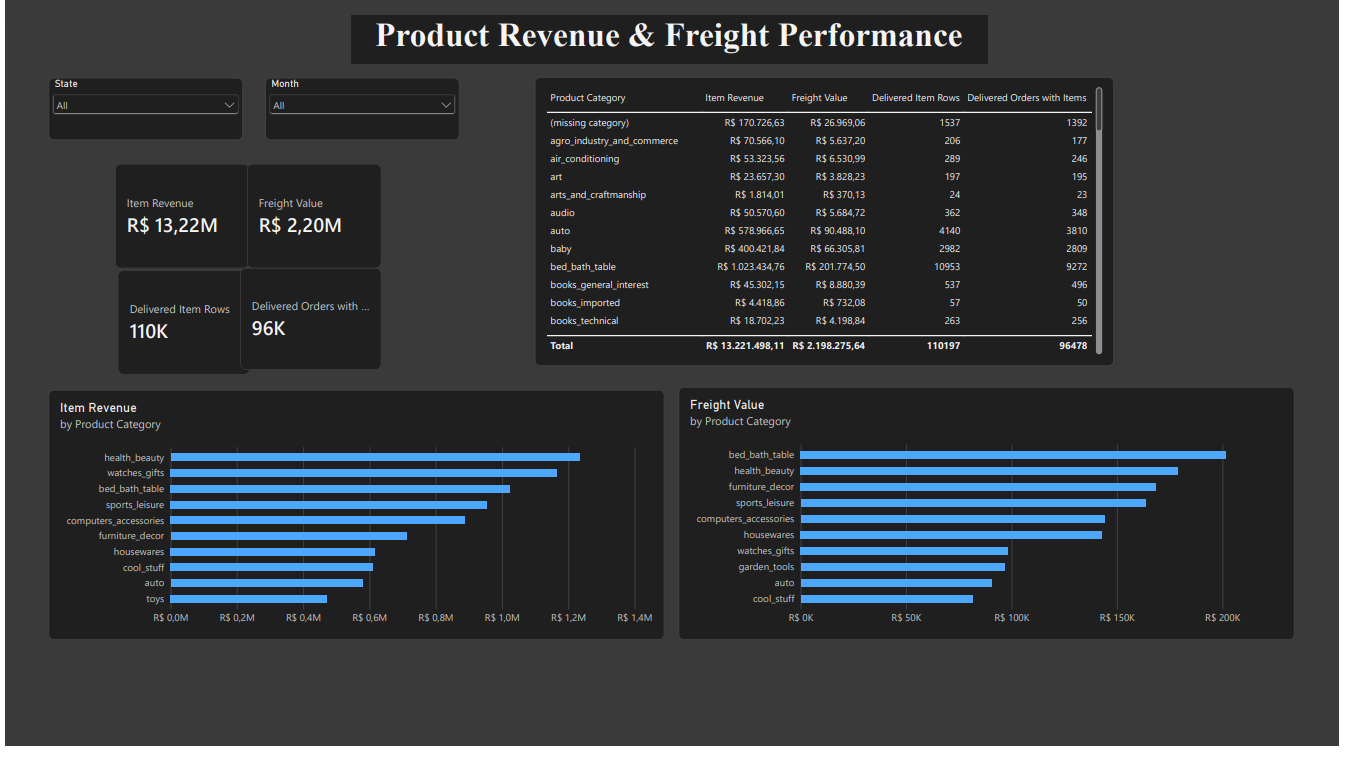

The page's visual inventory and layout, read from the dashboard file:
{"tool":"powerbi","page":{"name":"Product Performance","canvas":[1920,1080],"ordinal":1},"visuals":[{"type":"textbox","box":[497.5,27.5,917.5,70],"z":0},{"type":"slicer","fields":{"Values":["delivered_order_items.customer_state"]},"box":[62.5,117.5,280,90],"z":1000},{"type":"slicer","fields":{"Values":["delivered_order_items.order_purchase_timestamp.Variation.Date Hierarchy.Month"]},"box":[375,117.5,280,90],"z":2000},{"type":"cardVisual","fields":{"Data":["delivered_order_items.Item Revenue"]},"box":[159.3,242,193.3,150],"z":3000},{"type":"cardVisual","fields":{"Data":["delivered_order_items.Freight Value"]},"box":[349.3,242,193.3,150],"z":4000},{"type":"cardVisual","fields":{"Data":["delivered_order_items.Delivered Item Rows"]},"box":[162.7,395.3,190,150],"z":5000},{"type":"cardVisual","fields":{"Data":["delivered_order_items.Delivered Orders with Items"]},"box":[339.3,392,203.3,146.7],"z":6000},{"type":"clusteredBarChart","fields":{"Category":["delivered_order_items.product_category"],"Y":["delivered_order_items.Item Revenue"]},"box":[63.3,566.7,886.7,360],"z":7000},{"type":"clusteredBarChart","fields":{"Category":["delivered_order_items.product_category"],"Y":["delivered_order_items.Freight Value"]},"box":[970,563.3,886.7,363.3],"z":8000},{"type":"tableEx","fields":{"Values":["delivered_order_items.product_category","delivered_order_items.Item Revenue","delivered_order_items.Freight Value","delivered_order_items.Delivered Item Rows","delivered_order_items.Delivered Orders with Items"]},"box":[763.3,116.7,833.3,416.7],"z":9000}]}

Visuals, with their boxes in screenshot pixels (x1, y1, x2, y2), scaled from the page's 1920x1080 canvas onto the 1348x758 screenshot:
textbox: bbox(349, 19, 993, 68)
slicer - delivered_order_items.customer_state: bbox(44, 82, 240, 146)
slicer - delivered_order_items.order_purchase_timestamp.Variation.Date Hierarchy.Month: bbox(263, 82, 460, 146)
cardVisual - delivered_order_items.Item Revenue: bbox(112, 170, 248, 275)
cardVisual - delivered_order_items.Freight Value: bbox(245, 170, 381, 275)
cardVisual - delivered_order_items.Delivered Item Rows: bbox(114, 277, 248, 383)
cardVisual - delivered_order_items.Delivered Orders with Items: bbox(238, 275, 381, 378)
clusteredBarChart - delivered_order_items.product_category x delivered_order_items.Item Revenue: bbox(44, 398, 667, 650)
clusteredBarChart - delivered_order_items.product_category x delivered_order_items.Freight Value: bbox(681, 395, 1304, 650)
tableEx - delivered_order_items.product_category x delivered_order_items.Item Revenue: bbox(536, 82, 1121, 374)
